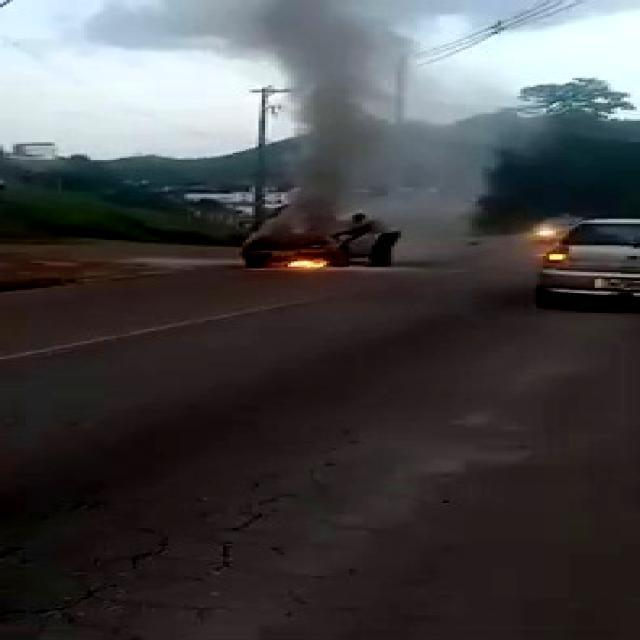Fire: (278, 253, 328, 276)
Smoke: (233, 2, 458, 224)
